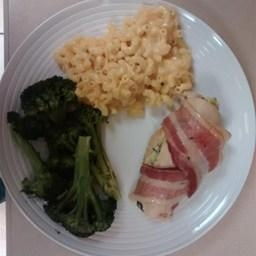background: (3, 2, 92, 94)
